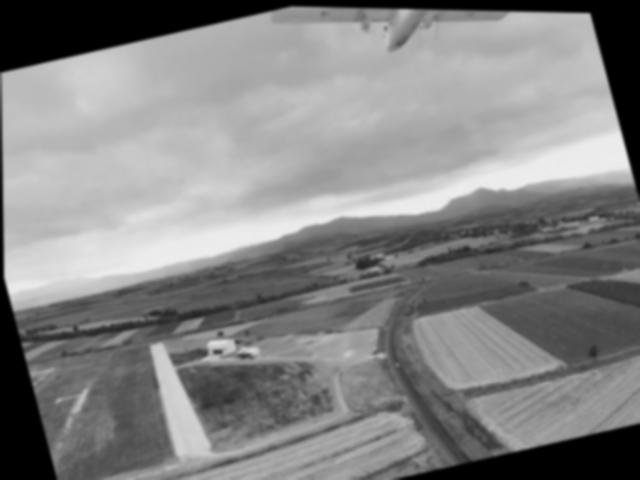hedef: (268, 5, 529, 85)
